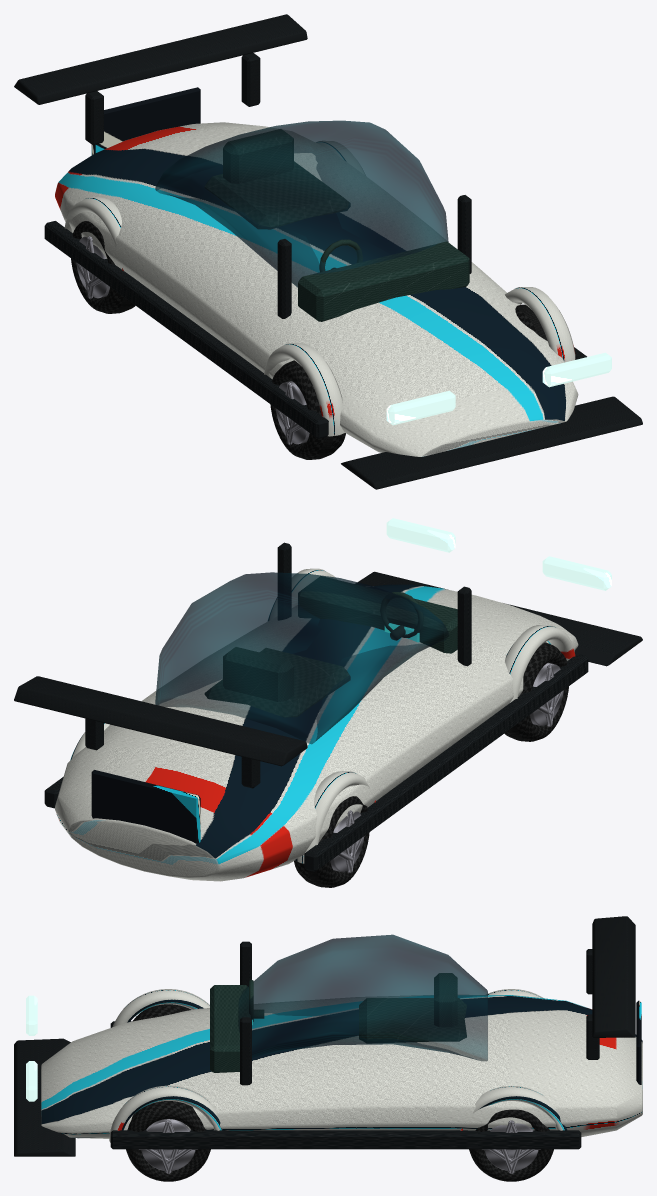
The model's file is car-touring.glb.
3 renders of one model, top to bottom at view 1: azimuth 30°, elevation 25°; view 2: azimuth 150°, elevation 25°; view 3: azimuth 270°, elevation 25°, orthographic. The views are drawn at different scales.
Parts seen in each view (by area): view 1: COCKPIT_HIDE_TOURING_BODY, COCKPIT_HIDE_TOURING_CABIN, TOURING_REAR_WING, TOURING_DASH, TOURING_FRONT_SPLITTER, TOURING_SILL_-1, TOURING_SEAT, TOURING_NUMBER_PANEL, TOURING_HEADREST, TOURING_FENDER_-1, FL_TYRE.001, TOURING_FENDER_1 (+8 smaller); view 2: COCKPIT_HIDE_TOURING_BODY, COCKPIT_HIDE_TOURING_CABIN, TOURING_REAR_WING, TOURING_SILL_-1, TOURING_DASH, TOURING_NUMBER_PANEL, TOURING_SEAT, TOURING_HEADREST, TOURING_FRONT_SPLITTER, TOURING_FENDER_-1, FL_TYRE.001, RL_TYRE.001 (+10 smaller); view 3: COCKPIT_HIDE_TOURING_BODY, COCKPIT_HIDE_TOURING_CABIN, TOURING_SILL_1, TOURING_REAR_WING, TOURING_FRONT_SPLITTER, TOURING_SEAT, TOURING_DASH, FR_TYRE.001, TOURING_FENDER_1, RR_TYRE.001, TOURING_FENDER_-1, TOURING_FENDER_REAR_1 (+10 smaller).
Part boxes in pixels (x1,y1,x2,y2): COCKPIT_HIDE_TOURING_BODY: (55, 122, 578, 456); COCKPIT_HIDE_TOURING_CABIN: (155, 120, 448, 287); TOURING_REAR_WING: (14, 14, 307, 104); TOURING_DASH: (298, 241, 469, 321); TOURING_FRONT_SPLITTER: (341, 396, 642, 489); TOURING_SILL_-1: (44, 221, 328, 438); TOURING_SEAT: (204, 161, 350, 229); TOURING_NUMBER_PANEL: (91, 87, 200, 155); TOURING_HEADREST: (223, 129, 293, 183); TOURING_FENDER_-1: (264, 343, 344, 436); FL_TYRE.001: (270, 360, 345, 459); TOURING_FENDER_1: (505, 287, 575, 362); COCKPIT_HIDE_TOURING_BODY: (55, 584, 578, 881); COCKPIT_HIDE_TOURING_CABIN: (155, 572, 448, 744); TOURING_REAR_WING: (14, 676, 307, 766); TOURING_SILL_-1: (304, 653, 588, 871); TOURING_DASH: (298, 576, 457, 653); TOURING_NUMBER_PANEL: (91, 770, 200, 843); TOURING_SEAT: (204, 648, 350, 717); TOURING_HEADREST: (223, 647, 293, 701); TOURING_FRONT_SPLITTER: (356, 571, 642, 666); TOURING_FENDER_-1: (505, 625, 575, 702); FL_TYRE.001: (504, 642, 568, 741); RL_TYRE.001: (294, 796, 369, 887); COCKPIT_HIDE_TOURING_BODY: (41, 995, 642, 1138); COCKPIT_HIDE_TOURING_CABIN: (238, 934, 487, 1061); TOURING_SILL_1: (110, 1130, 581, 1149); TOURING_REAR_WING: (592, 916, 635, 1037); TOURING_FRONT_SPLITTER: (14, 1038, 75, 1156); TOURING_SEAT: (359, 998, 466, 1043); TOURING_DASH: (210, 985, 250, 1072); FR_TYRE.001: (126, 1101, 210, 1181); TOURING_FENDER_1: (109, 1085, 222, 1142); RR_TYRE.001: (469, 1109, 553, 1181); TOURING_FENDER_-1: (112, 989, 209, 1027); TOURING_FENDER_REAR_1: (460, 1086, 567, 1130).
Size of the model in its own units: 2.06 by 1.47 by 4.79.
11 materials, 11 textured.
